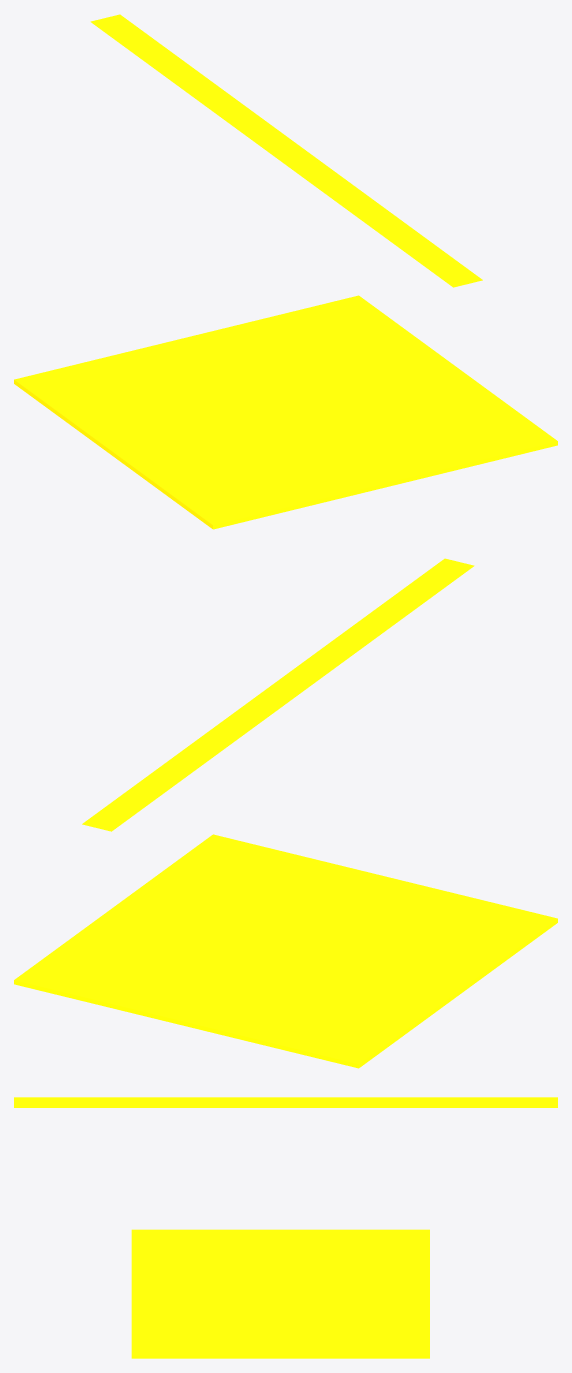
File: floor.DAE
3 views of the same model, one above another, from view 1: azimuth 30°, elevation 25°; view 2: azimuth 150°, elevation 25°; view 3: azimuth 270°, elevation 25° (orthographic). The views are drawn at different scales.
Parts seen in each view (by area): view 1: Box001, Plane001; view 2: Box001, Plane001; view 3: Box001, Plane001.
Part boxes in pixels (bbox=[...]): Box001: bbox=[14, 295, 557, 529]; Plane001: bbox=[90, 14, 482, 287]; Box001: bbox=[14, 834, 557, 1068]; Plane001: bbox=[82, 558, 474, 831]; Box001: bbox=[131, 1229, 429, 1358]; Plane001: bbox=[14, 1097, 557, 1107].
Bounding box in the file's own units: 186 × 134 × 339.
